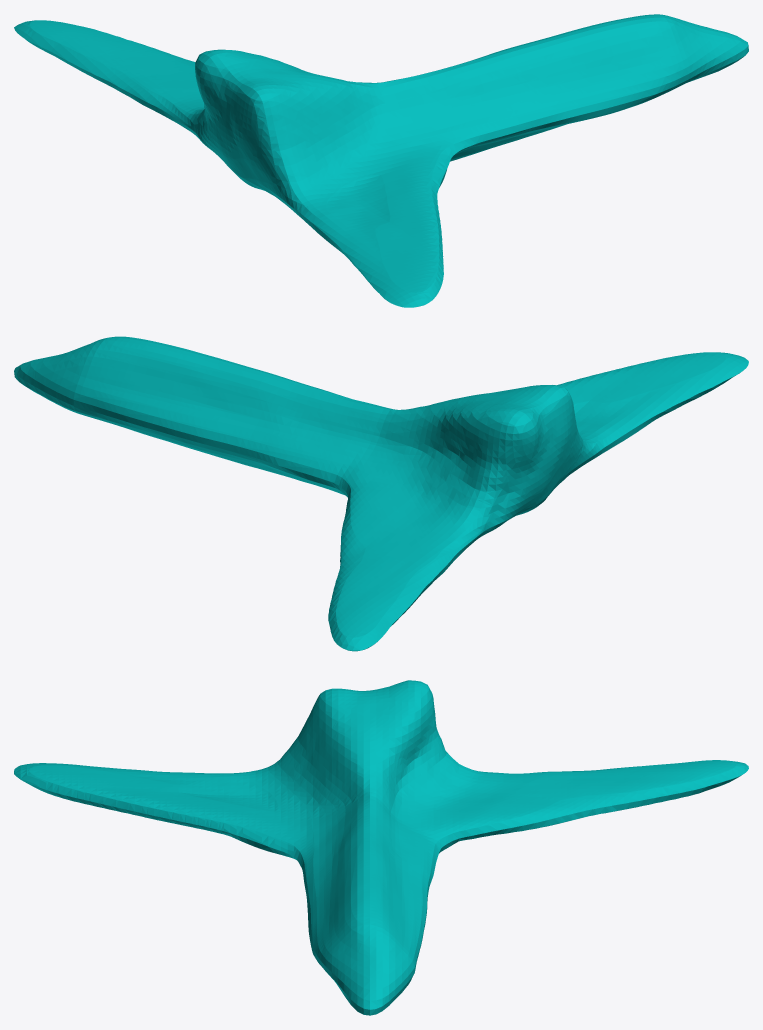
3 views of the same model, one above another, from view 1: azimuth 30°, elevation 25°; view 2: azimuth 150°, elevation 25°; view 3: azimuth 270°, elevation 25° (orthographic). The views are drawn at different scales.
Bounding box in the file's own units: 0.801 × 0.2065 × 1.
